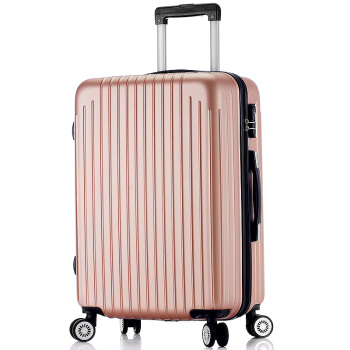luggage: (70, 2, 276, 347)
